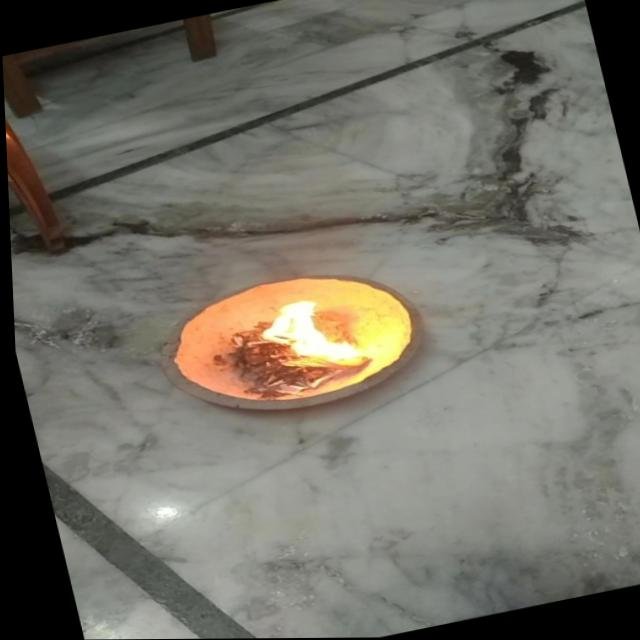fire: (243, 286, 362, 384)
